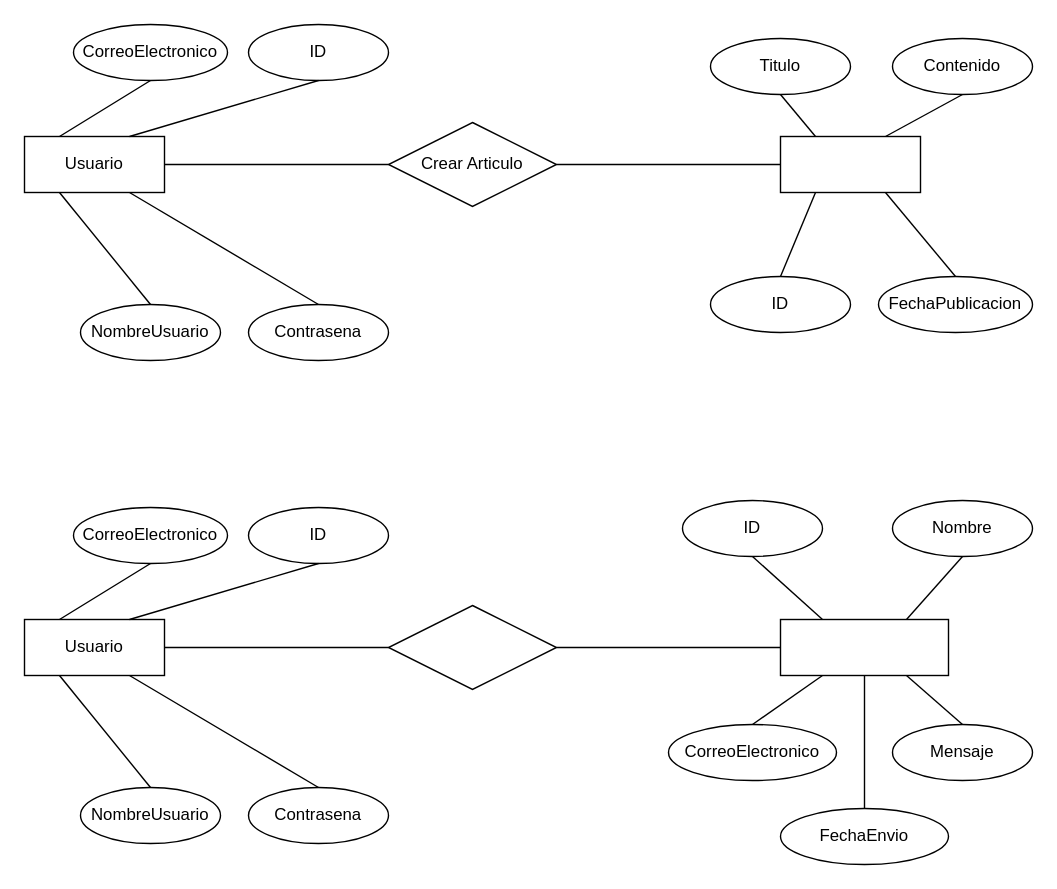
The diagram is 1057 pixels wide and 889 high, and some of its shapes have lost their labels. Here are the shapes that lost their labels. From the top down, the centre of each, then its label:
[849,163]: Articulo
[471,647]: Solicitar Contacto
[863,647]: FormularioContacto
